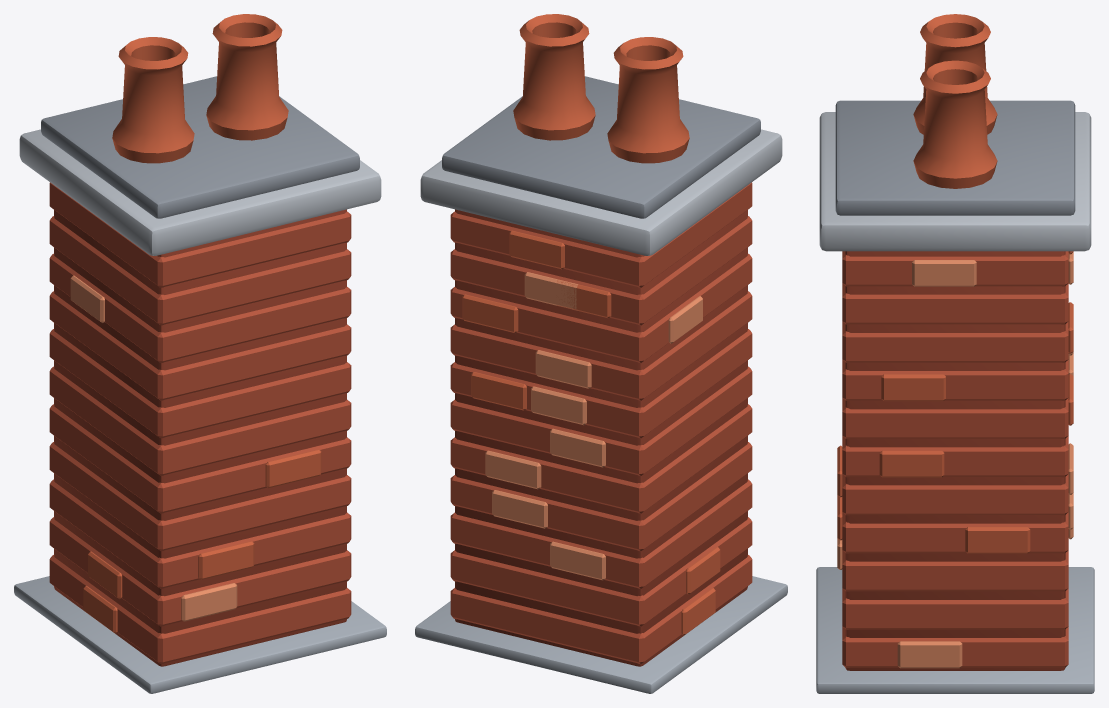
File: chamine_tijolo.glb
3 renders of one model, left to right at view 1: azimuth 30°, elevation 25°; view 2: azimuth 150°, elevation 25°; view 3: azimuth 270°, elevation 25°, orthographic.
Parts seen in each view (by area): view 1: chamine_tijolo; view 2: chamine_tijolo; view 3: chamine_tijolo.
Boxes of the visible parts, x1,y1,x2,y2 form: chamine_tijolo: (14,14,386,693); chamine_tijolo: (415,14,787,693); chamine_tijolo: (816,14,1094,693).
Bounding box in the file's own units: 0.86 × 2 × 0.86.
Materials: 1 (1 with a texture image).
